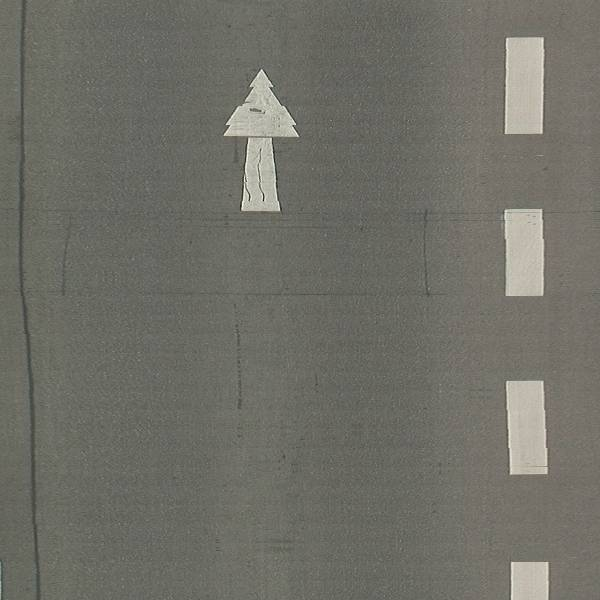road_damage: (36, 282, 447, 314), (59, 206, 456, 235)
